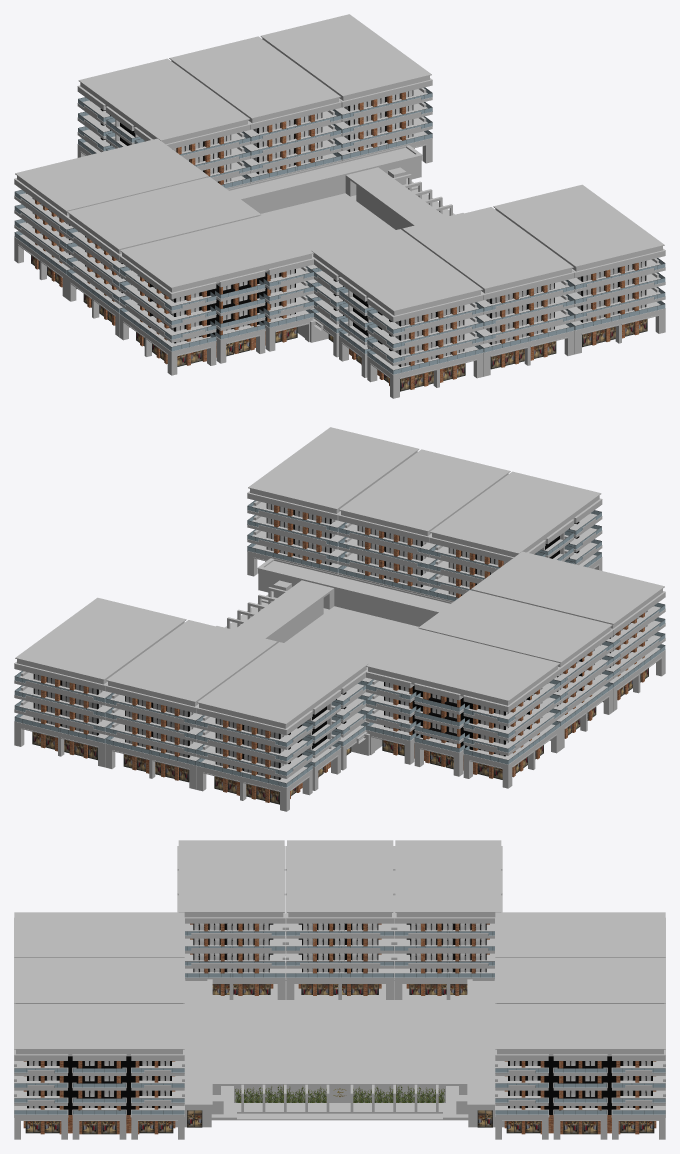
Rendered from Building3.fbx.
3 views of the same model, one above another, from view 1: azimuth 30°, elevation 25°; view 2: azimuth 150°, elevation 25°; view 3: azimuth 270°, elevation 25° (orthographic). The views are drawn at different scales.
Parts seen in each view (by area): view 1: Cube.416; view 2: Cube.416; view 3: Cube.416.
Part boxes in pixels (x1,y1,x2,y2): Cube.416: [14, 14, 665, 398]; Cube.416: [14, 427, 665, 811]; Cube.416: [14, 840, 665, 1139].
Size of the model in its own units: 113 by 23.08 by 149.
